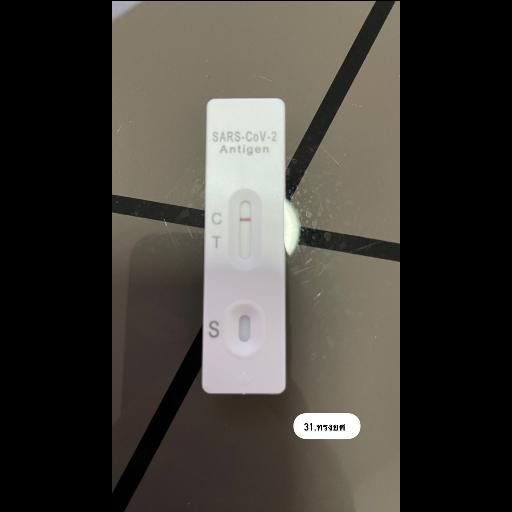Neg: (202, 96, 284, 394)
